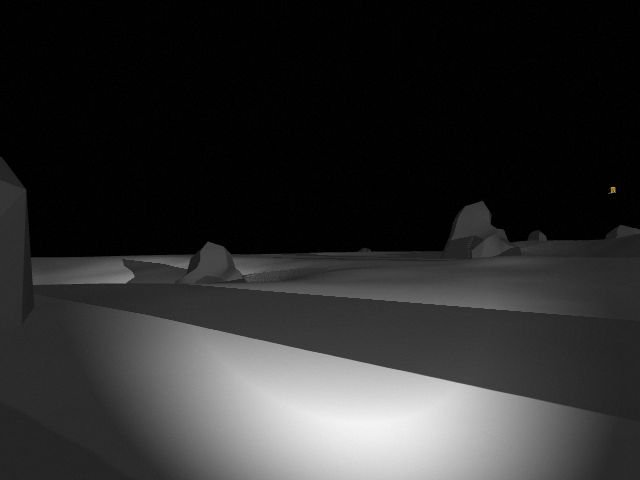cubesat: (609, 184, 618, 195)
